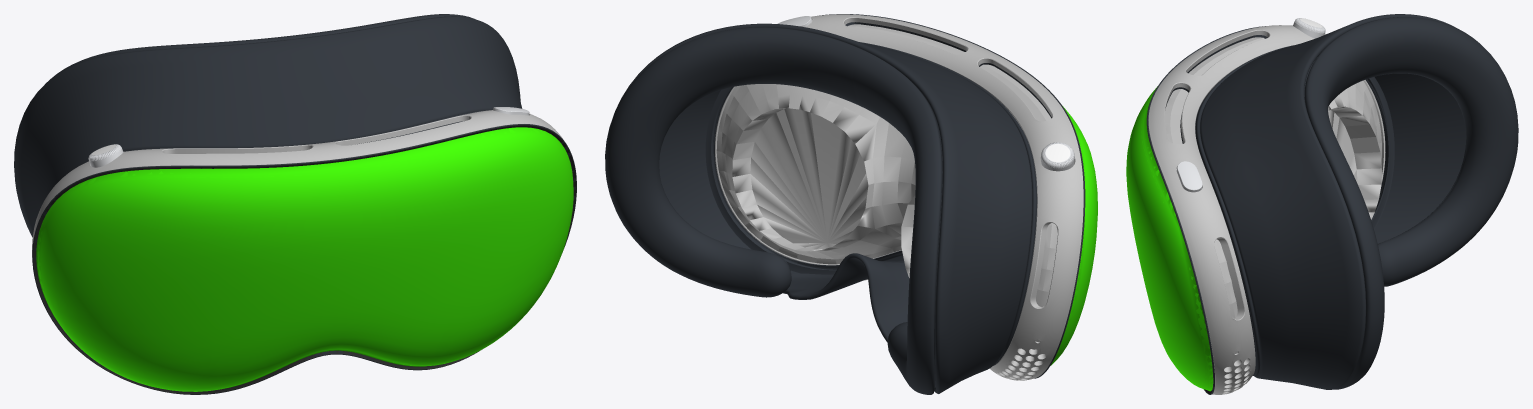
Rendered from vr-glass-v2.glb.
3 views of the same model, side by side, from view 1: azimuth 30°, elevation 25°; view 2: azimuth 150°, elevation 25°; view 3: azimuth 270°, elevation 25° (orthographic). The views are drawn at different scales.
Visible parts, largest first — view 1: vr_screen, vr.001, vr.005, vr.009, vr.012; view 2: vr.001, vr.005, vr_screen, vr.012; view 3: vr.001, vr.005, vr_screen, vr.012.
Part boxes in pixels (x1,y1,x2,y2): vr_screen: [36, 127, 573, 391]; vr.001: [14, 14, 576, 394]; vr.005: [32, 110, 563, 257]; vr.009: [33, 125, 576, 394]; vr.012: [88, 107, 529, 167]; vr.001: [605, 14, 1085, 394]; vr.005: [715, 14, 1083, 380]; vr_screen: [1050, 106, 1097, 365]; vr.012: [777, 16, 1074, 171]; vr.001: [1147, 14, 1518, 394]; vr.005: [1148, 25, 1385, 394]; vr_screen: [1126, 86, 1213, 391]; vr.012: [1176, 18, 1325, 192].
Bounding box in the file's own units: 0.5667 × 0.3419 × 0.4194.
